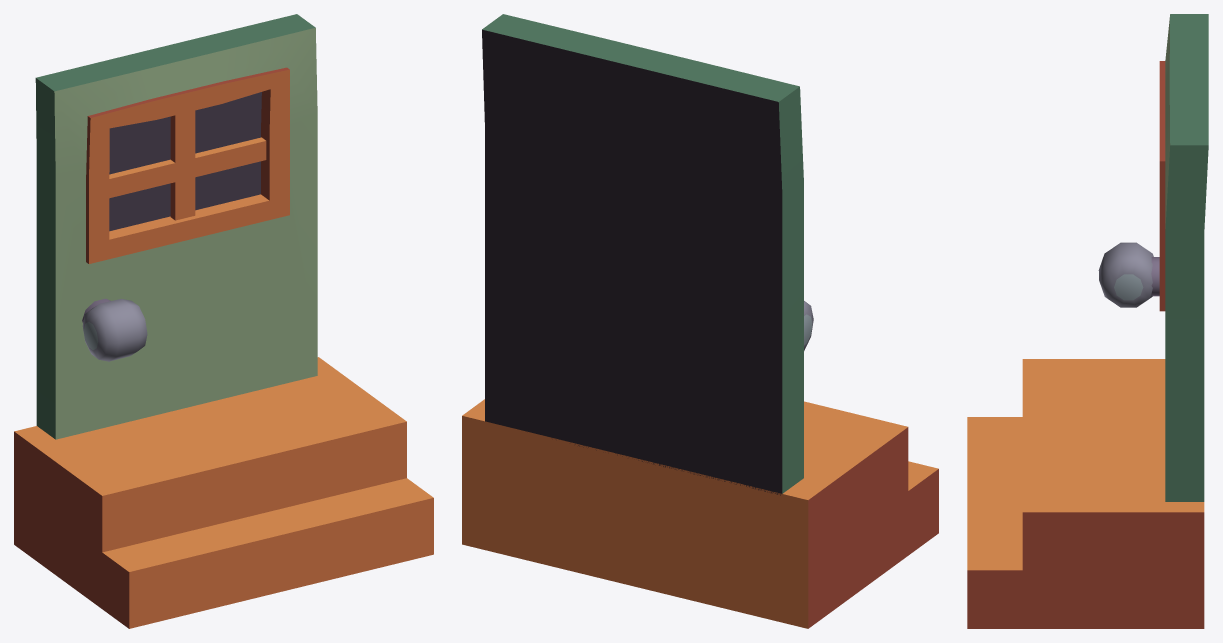
Rendered from Door02_Green_Wood.glb.
The picture shows the model from 3 angles, left to right: view 1: azimuth 30°, elevation 25°; view 2: azimuth 150°, elevation 25°; view 3: azimuth 270°, elevation 25°; orthographic projection. The views are drawn at different scales.
Parts seen in each view (by area): view 1: Door02_Green_Wood; view 2: Door02_Green_Wood; view 3: Door02_Green_Wood.
Boxes of the visible parts, bbox=[...] form: Door02_Green_Wood: bbox=[14, 14, 433, 628]; Door02_Green_Wood: bbox=[462, 14, 938, 628]; Door02_Green_Wood: bbox=[967, 14, 1208, 628].
Bounding box in the file's own units: 0.9795 × 1.41 × 0.6527.
1 material, 1 textured.
